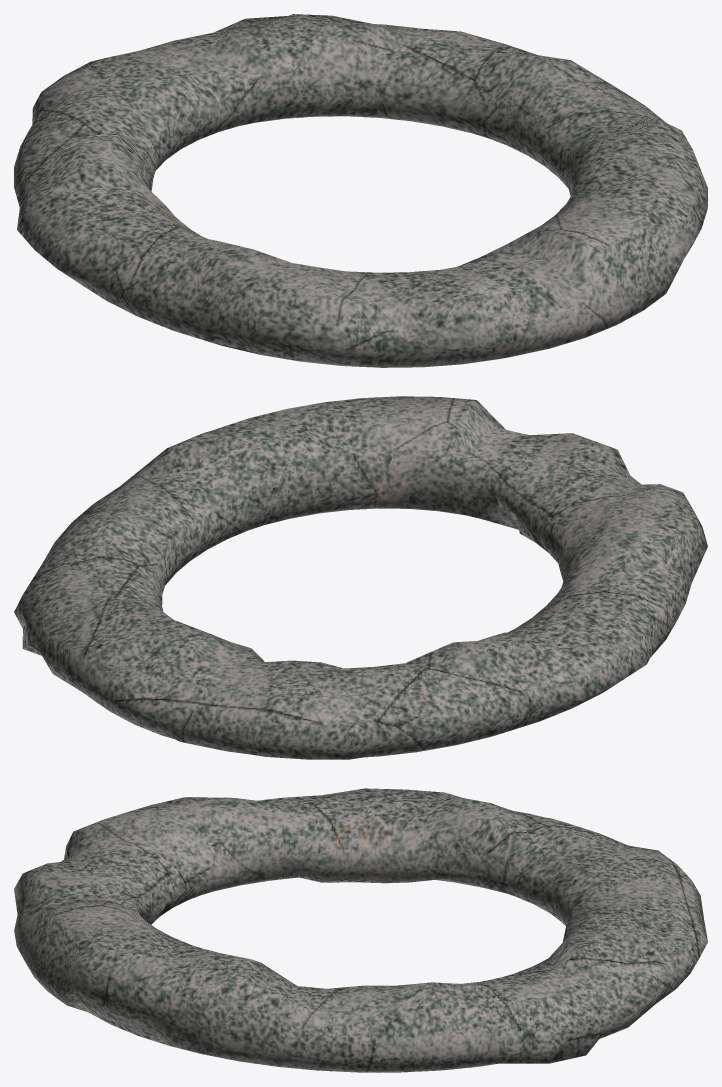
File: Stones-2.fbx
3 views of the same model, one above another, from view 1: azimuth 30°, elevation 25°; view 2: azimuth 150°, elevation 25°; view 3: azimuth 270°, elevation 25° (orthographic). The views are drawn at different scales.
Visible parts, largest first — view 1: campfire; view 2: campfire; view 3: campfire.
Part boxes in pixels (x1,y1,x2,y2): campfire: (14,14,707,367); campfire: (14,396,707,759); campfire: (14,788,707,1072).
Bounding box in the file's own units: 326 × 53.57 × 371.
1 material, 1 textured.
